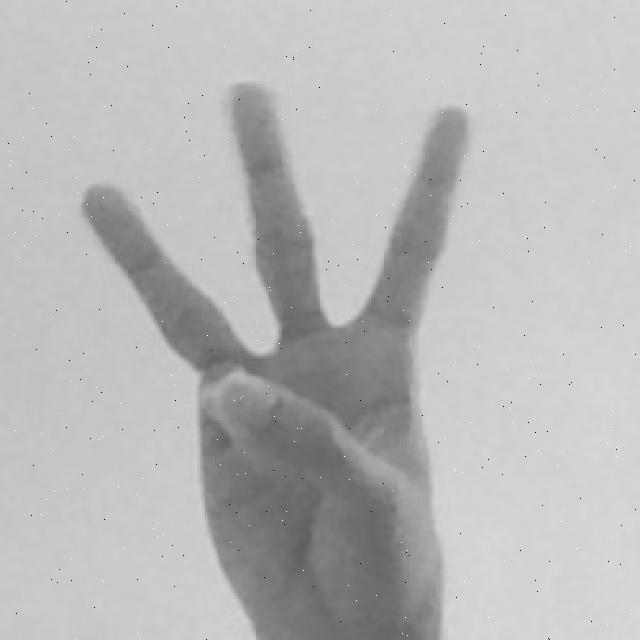W: (69, 69, 487, 640)
